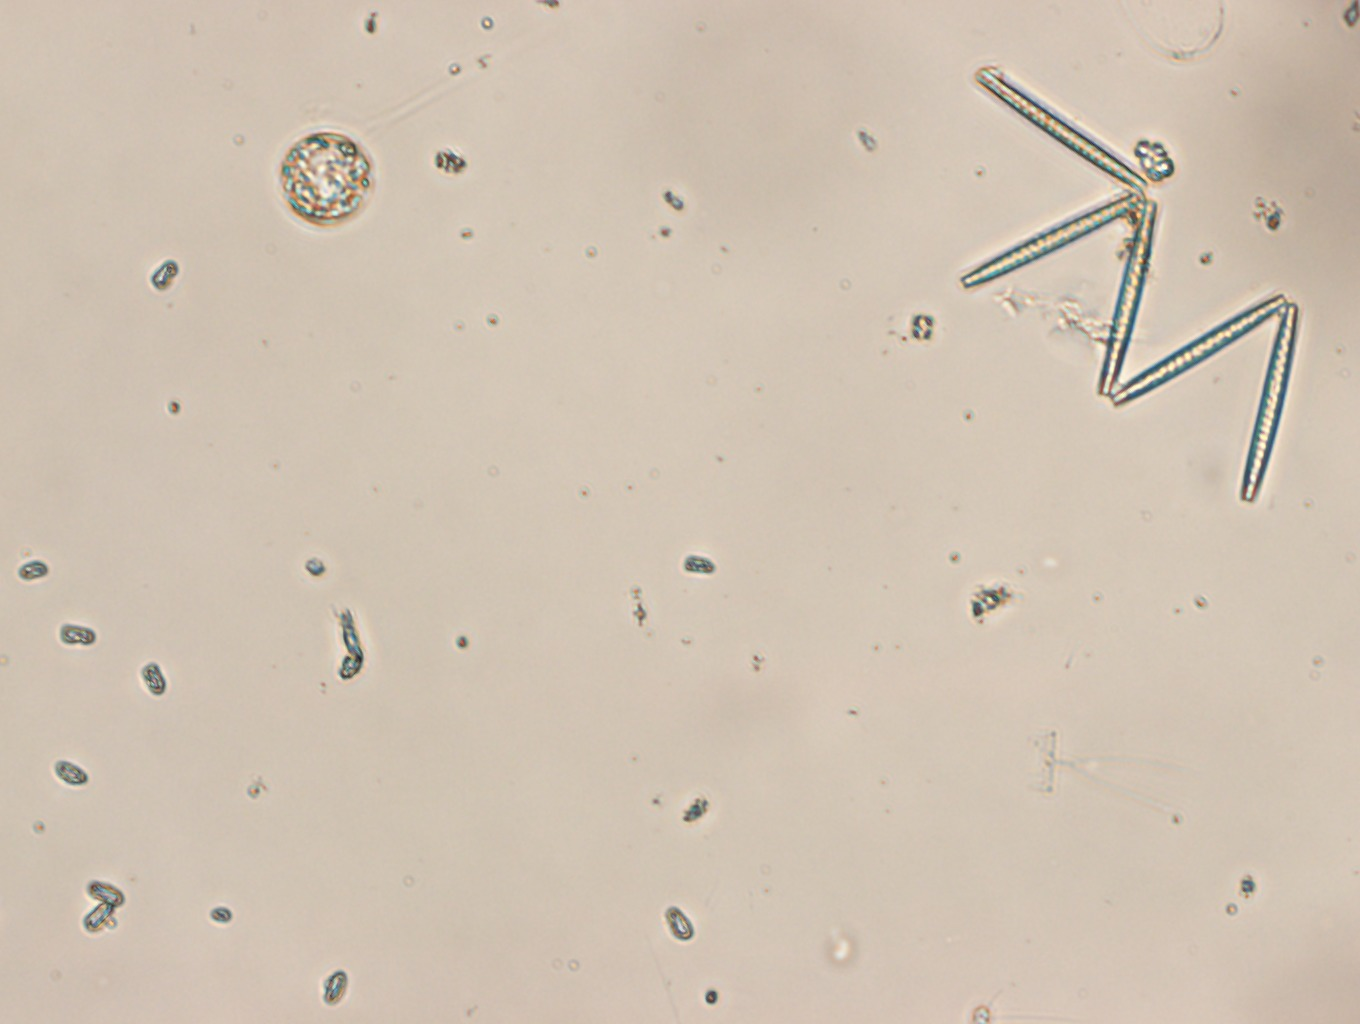thalassionema nitzschioides: (957, 62, 1301, 509)
